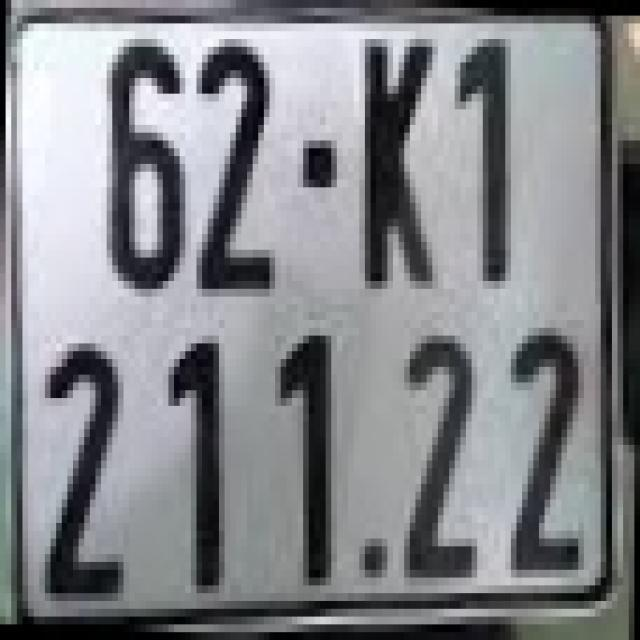1: (163, 336, 236, 594), (275, 328, 343, 586), (454, 31, 516, 281)
2: (39, 343, 129, 601), (197, 39, 280, 297), (398, 328, 482, 578), (506, 328, 584, 578)
6: (106, 39, 186, 289)
K: (360, 31, 438, 289)
